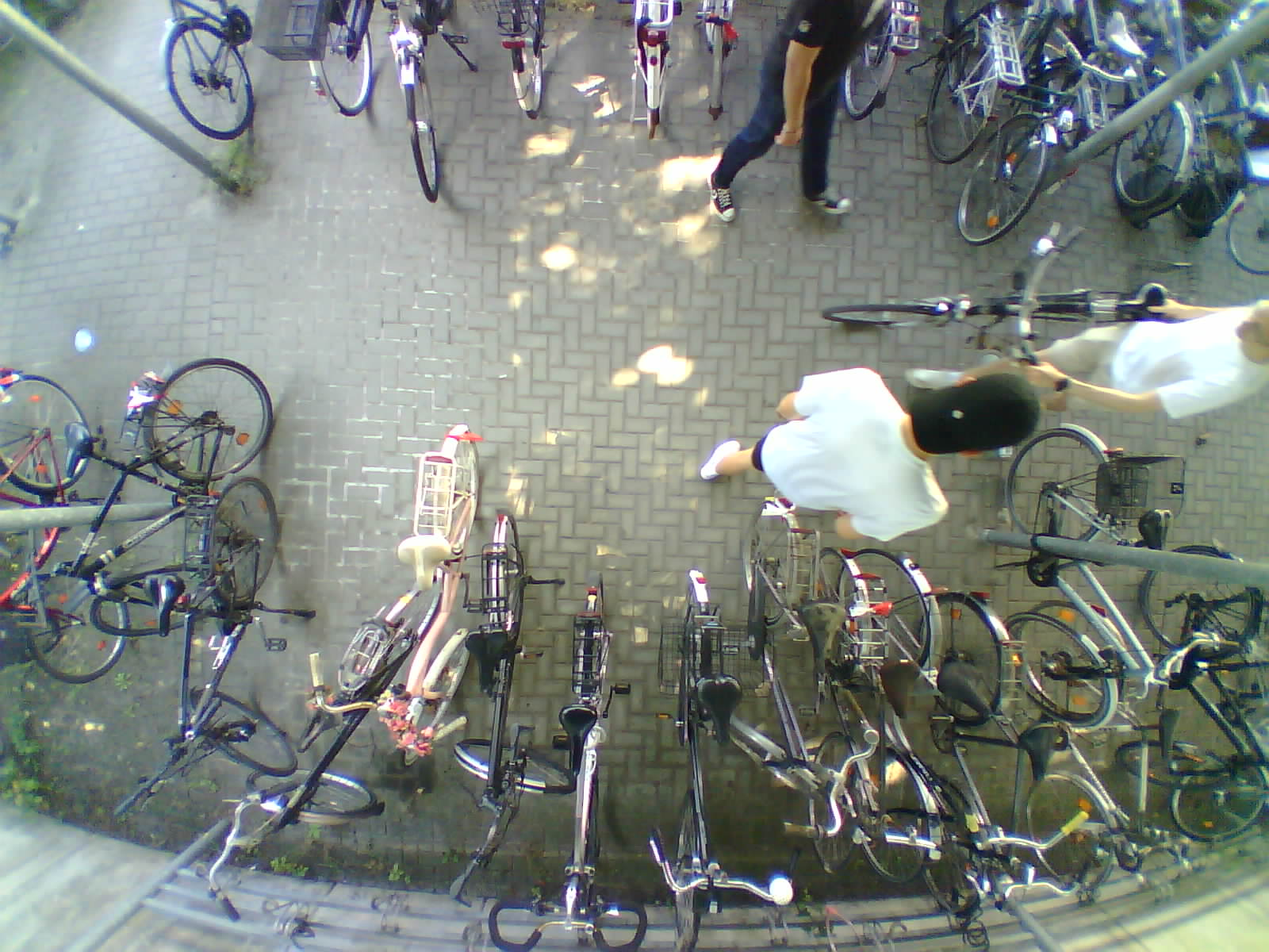bicylce: (1002, 416, 1174, 718), (236, 581, 441, 819), (93, 353, 266, 634), (0, 362, 127, 669), (382, 420, 501, 747), (648, 563, 748, 952), (916, 577, 1032, 908), (182, 469, 298, 773), (456, 502, 567, 812), (847, 547, 948, 874), (539, 573, 621, 946), (1023, 609, 1122, 892), (741, 490, 827, 815), (957, 0, 1067, 243), (802, 538, 877, 865)
saddle: (691, 664, 754, 756), (788, 597, 853, 679), (934, 658, 995, 724), (462, 625, 518, 695), (393, 532, 456, 594), (137, 571, 188, 639), (1018, 718, 1063, 791), (880, 656, 921, 723), (1104, 8, 1149, 68), (559, 707, 597, 778), (296, 701, 345, 754), (60, 418, 95, 483), (1138, 502, 1175, 556), (1157, 701, 1178, 766)
